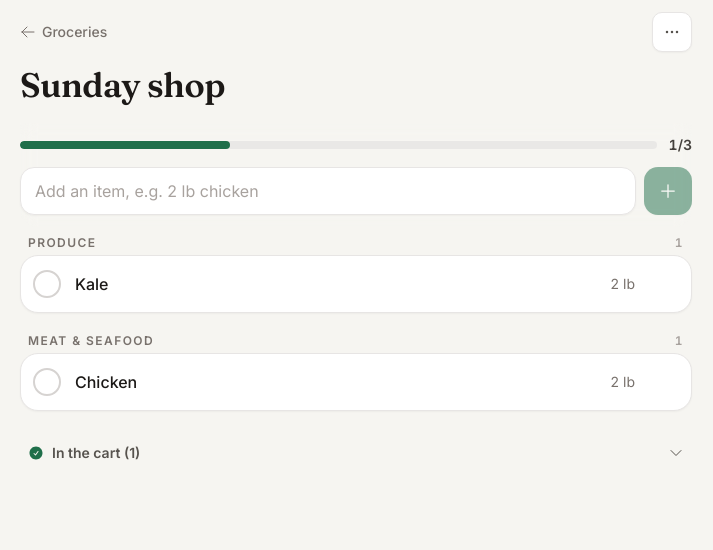
Test case: GroceryListDetailPage › groups unchecked items by aisle and tucks checked items into the cart
This screenshot has width=713, height=550.
Expected: the heading "Sunday shop" is shown, [20, 64, 225, 106]
Expected: the checkbox labelled "Kale 2 lb" is not checked, [25, 256, 643, 312]
Click the button "In the cart (1)" at point(91, 452), box [20, 434, 692, 470]
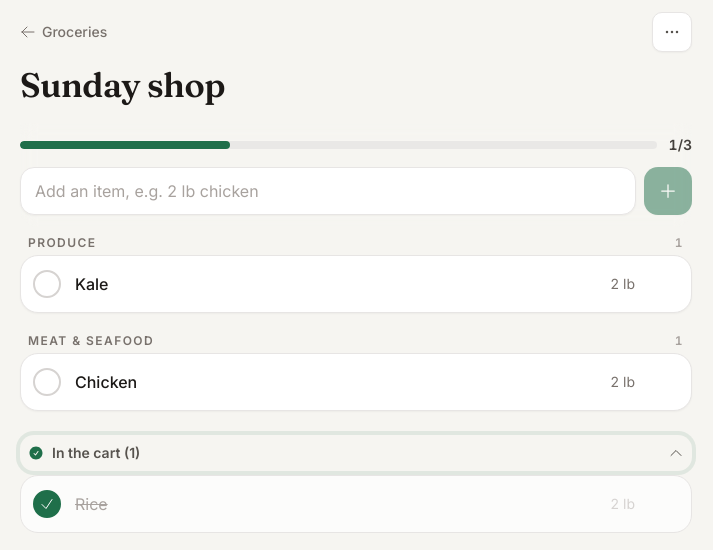
Now the checkbox labelled "Rice 2 lb" is checked, box [25, 476, 643, 532]
